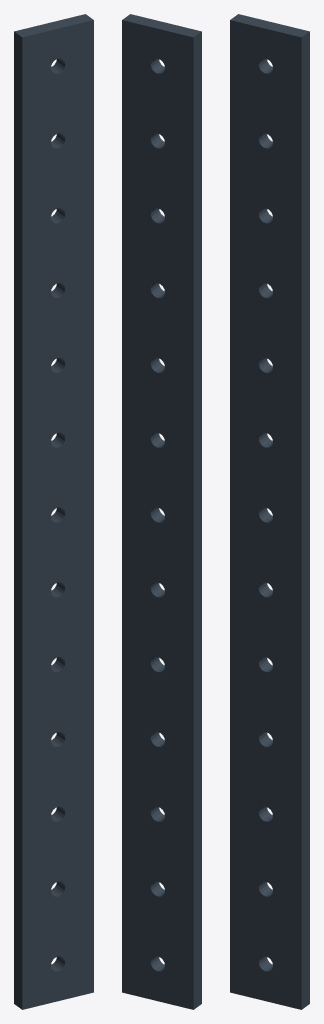
File: kit_beam_260.obj
3 views of the same model, side by side, from view 1: azimuth 30°, elevation 25°; view 2: azimuth 150°, elevation 25°; view 3: azimuth 330°, elevation 25° (orthographic).
Parts seen in each view (by area): view 1: kit_beam_260; view 2: kit_beam_260; view 3: kit_beam_260.
Boxes of the visible parts, x1,y1,x2,y2 form: kit_beam_260: (14, 14, 93, 1009); kit_beam_260: (122, 14, 201, 1009); kit_beam_260: (230, 14, 309, 1009).
Size of the model in its own units: 0.02 by 0.26 by 0.004.
